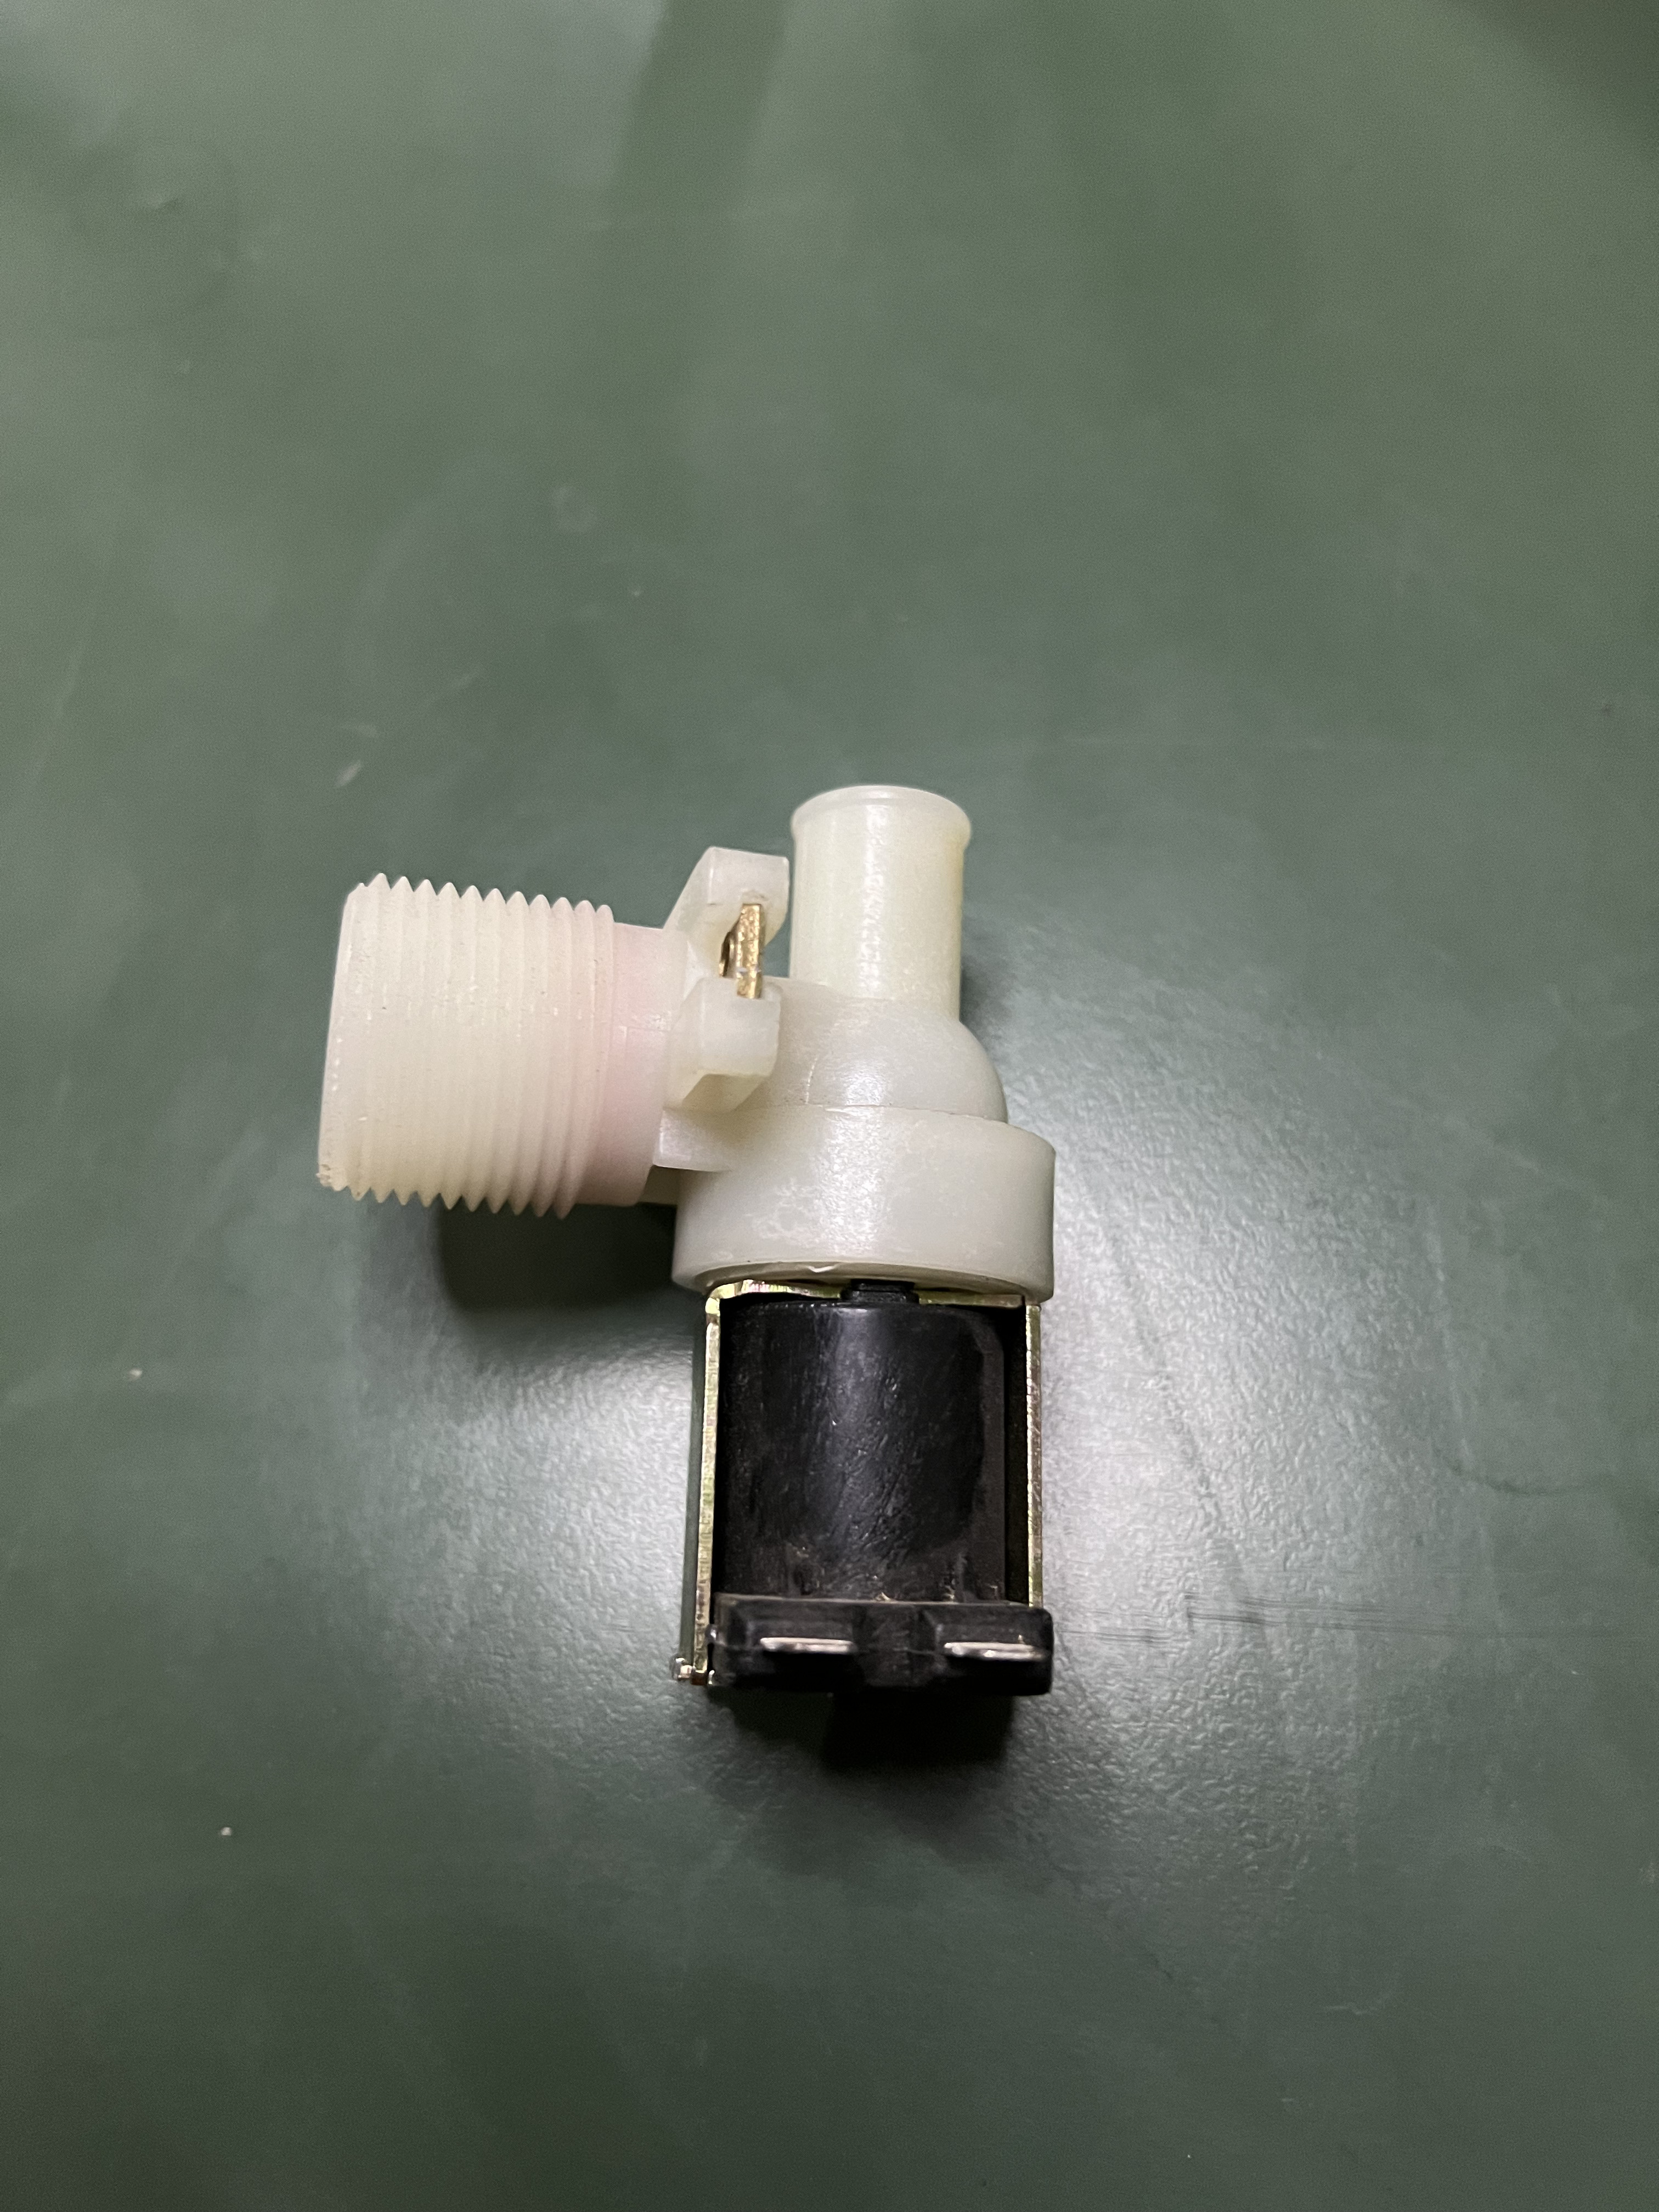godrej_inlet_valves: (340, 770, 1249, 1813)
